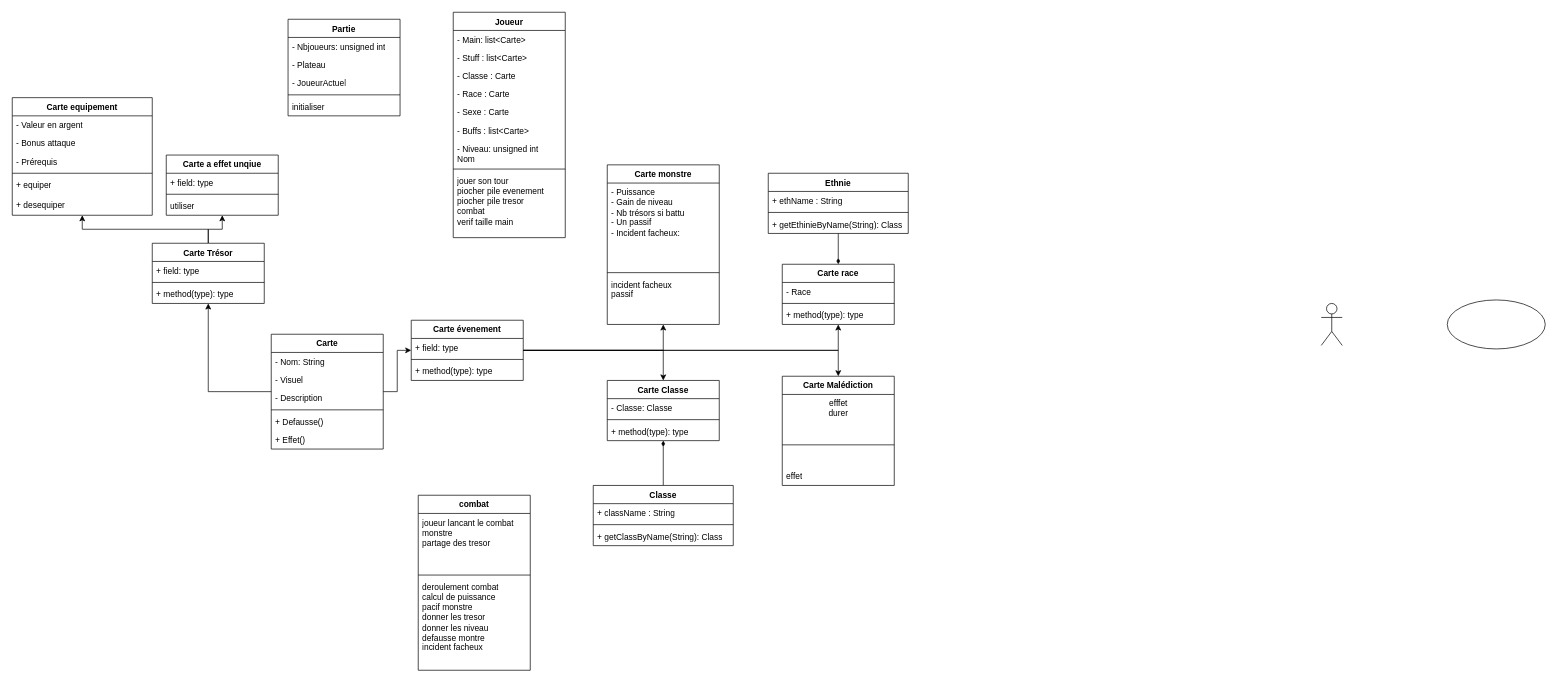
This 1558x685 diagram has some shape labels left out. Each missing label, with the centre of its shape:
"Actor" belongs at [1331,324].
"Use Case" belongs at [1496,324].
